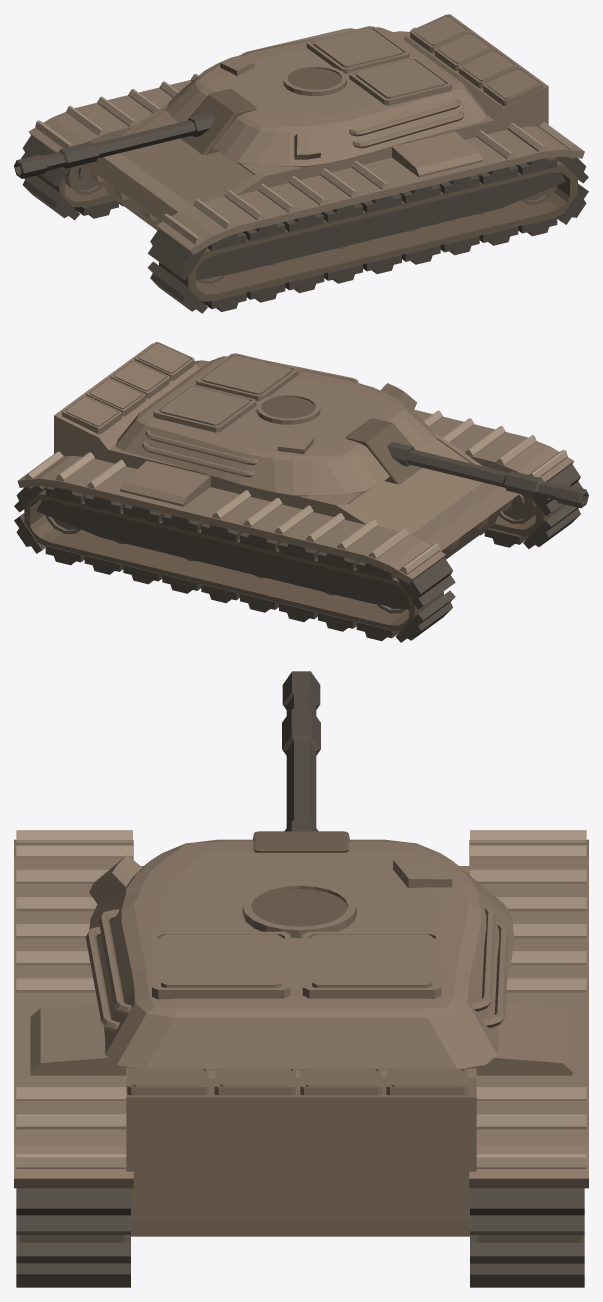
Rendered from apc.glb.
3 renders of one model, top to bottom at view 1: azimuth 30°, elevation 25°; view 2: azimuth 150°, elevation 25°; view 3: azimuth 270°, elevation 25°, orthographic. The views are drawn at different scales.
Parts seen in each view (by area): view 1: Tank_body, Tank_Turret; view 2: Tank_body, Tank_Turret; view 3: Tank_body, Tank_Turret.
Boxes of the visible parts, bbox=[...] form: Tank_body: bbox=[14, 14, 584, 301]; Tank_Turret: bbox=[21, 26, 588, 313]; Tank_body: bbox=[17, 342, 588, 630]; Tank_Turret: bbox=[14, 353, 582, 642]; Tank_body: bbox=[14, 671, 588, 1242]; Tank_Turret: bbox=[16, 831, 584, 1287].
Bounding box in the file's own units: 17.68 × 4.62 × 10.09.
1 material, 1 textured.
